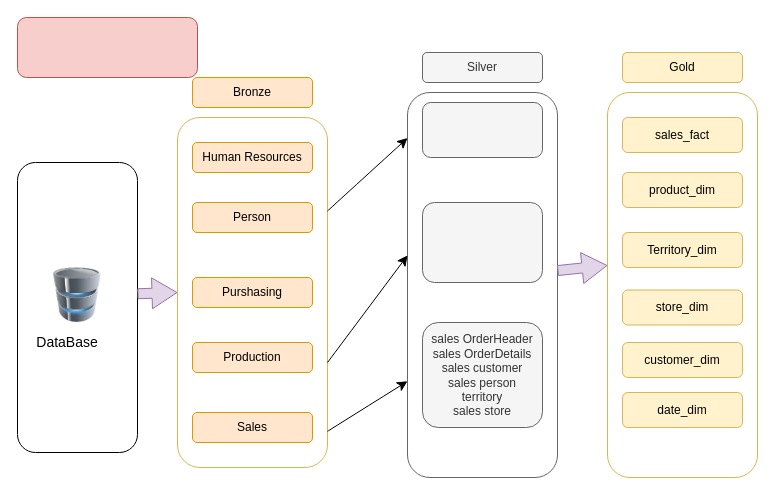
The diagram is 775 pixels wide and 495 high, and some of its shapes have lost their labels. The box of each missing label's shape, as (x1, y1, x2, y2) in pixels:
Data Flow: (16, 16, 198, 78)
person_person: (422, 102, 542, 158)
product product_category product_subcategory: (422, 202, 542, 282)
